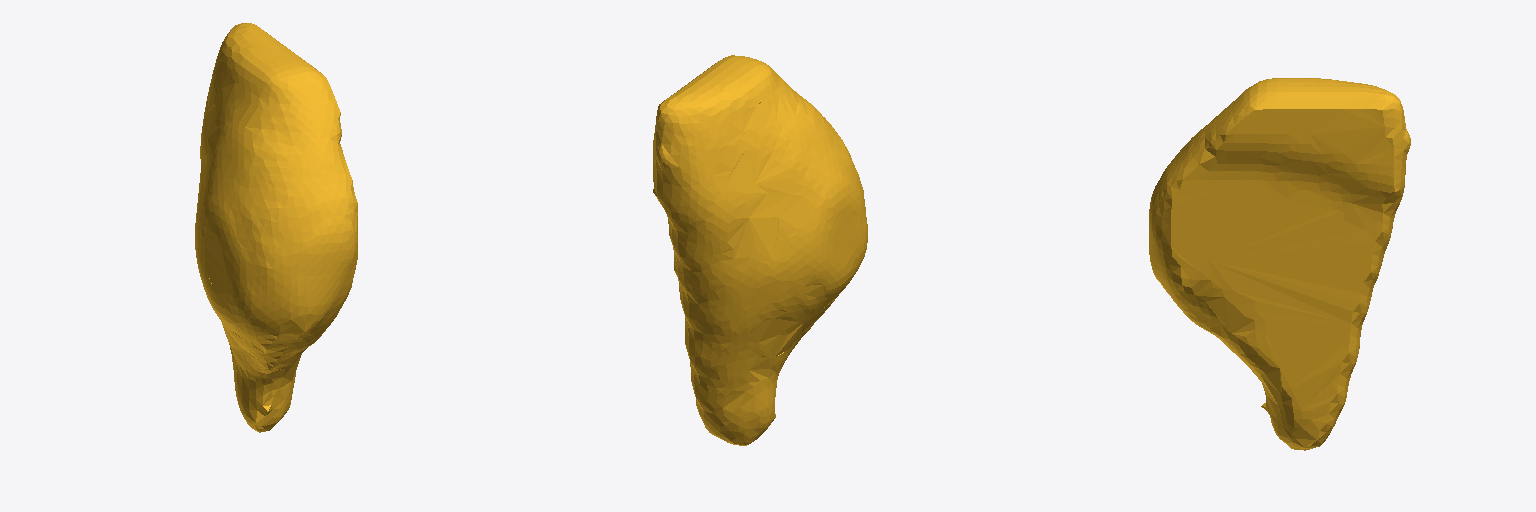
The model's file is Model_10005_LH__Olfactory_bulb_(OB).obj.
The picture shows the model from 3 angles: view 1: azimuth 30°, elevation 25°; view 2: azimuth 150°, elevation 25°; view 3: azimuth 270°, elevation 25°; orthographic projection.
Bounding box in the file's own units: 1.21 × 3.69 × 2.36.